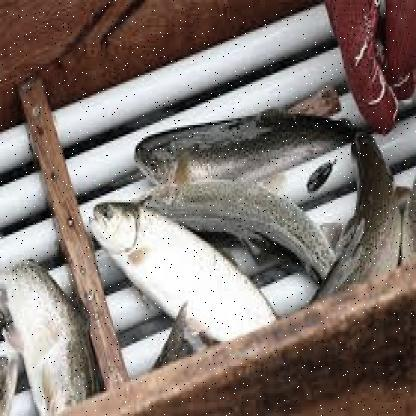fish: (84, 192, 304, 378)
